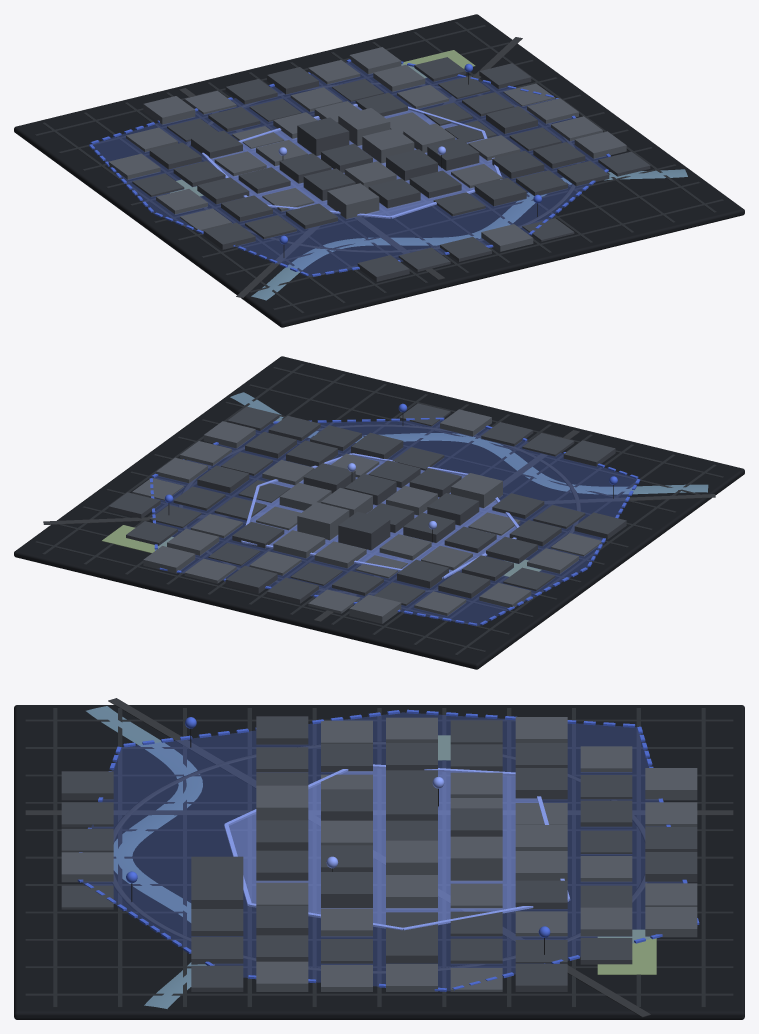
Rendered from geofenceMap.glb.
The picture shows the model from 3 angles, top to bottom: view 1: azimuth 30°, elevation 25°; view 2: azimuth 150°, elevation 25°; view 3: azimuth 270°, elevation 25°; orthographic projection. The views are drawn at different scales.
Parts seen in each view (by area): view 1: blocks, base, zoneNewFill, roads, river, zoneOldFill, zoneNewLine, ringRoad, zoneOldLine, parks; view 2: blocks, base, zoneNewFill, roads, river, zoneOldFill, zoneNewLine, ringRoad, zoneOldLine, parks; view 3: blocks, base, zoneNewFill, roads, zoneOldFill, river, zoneNewLine, ringRoad, zoneOldLine, parks.
Part boxes in pixels (x1,y1,x2,y2): blocks: [108, 47, 650, 281]; base: [14, 14, 744, 327]; zoneNewFill: [93, 62, 606, 276]; roads: [35, 22, 723, 313]; river: [251, 169, 687, 300]; zoneOldFill: [211, 106, 496, 215]; zoneNewLine: [89, 59, 610, 276]; ringRoad: [179, 82, 580, 252]; zoneOldLine: [202, 103, 501, 218]; parks: [170, 50, 475, 196]; blocks: [108, 403, 626, 623]; base: [14, 356, 744, 669]; zoneNewFill: [154, 420, 636, 625]; roads: [35, 364, 723, 655]; river: [230, 392, 708, 494]; zoneOldFill: [250, 458, 516, 572]; zoneNewLine: [149, 417, 640, 625]; ringRoad: [178, 424, 580, 594]; zoneOldLine: [241, 453, 519, 578]; parks: [102, 525, 541, 576]; blocks: [61, 716, 697, 991]; base: [14, 705, 744, 1019]; zoneNewFill: [82, 712, 682, 990]; roads: [25, 698, 733, 1017]; zoneOldFill: [229, 768, 537, 924]; river: [86, 706, 214, 1008]; zoneNewLine: [77, 709, 699, 991]; ringRoad: [111, 741, 647, 973]; zoneOldLine: [224, 764, 570, 930]; parks: [438, 735, 656, 974].
Size of the model in its own units: 6.4 by 0.37 by 6.2.
